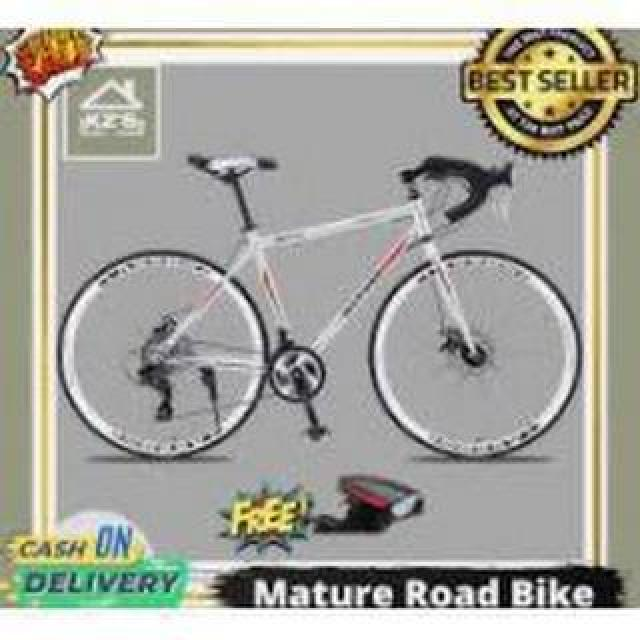Person: (51, 138, 585, 466)
